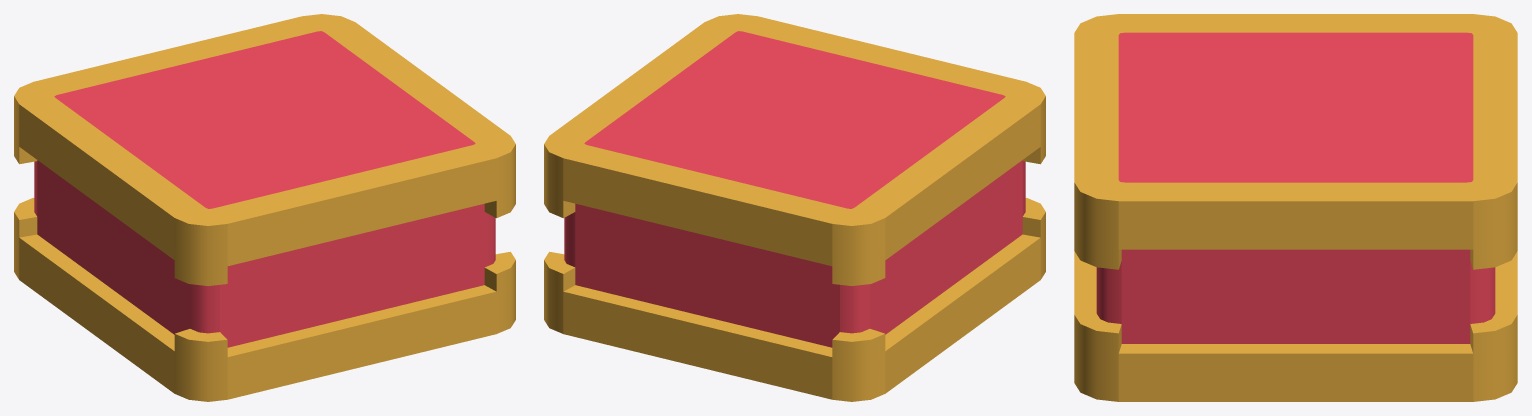
Rendered from blockMovingRed.fbx.
3 views of the same model, side by side, from view 1: azimuth 30°, elevation 25°; view 2: azimuth 150°, elevation 25°; view 3: azimuth 270°, elevation 25° (orthographic). The views are drawn at different scales.
Parts seen in each view (by area): view 1: blockMovingRed; view 2: blockMovingRed; view 3: blockMovingRed.
Boxes of the visible parts, left/top/right/bottom form: blockMovingRed: left=14, top=14, right=515, bottom=401; blockMovingRed: left=544, top=14, right=1045, bottom=401; blockMovingRed: left=1074, top=14, right=1517, bottom=401.
Bounding box in the file's own units: 10 × 5 × 10.
